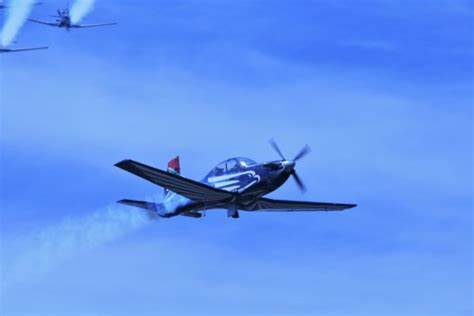Aeronef_militaire: (83, 117, 369, 242), (22, 2, 124, 39), (1, 38, 54, 60), (1, 1, 44, 14)
